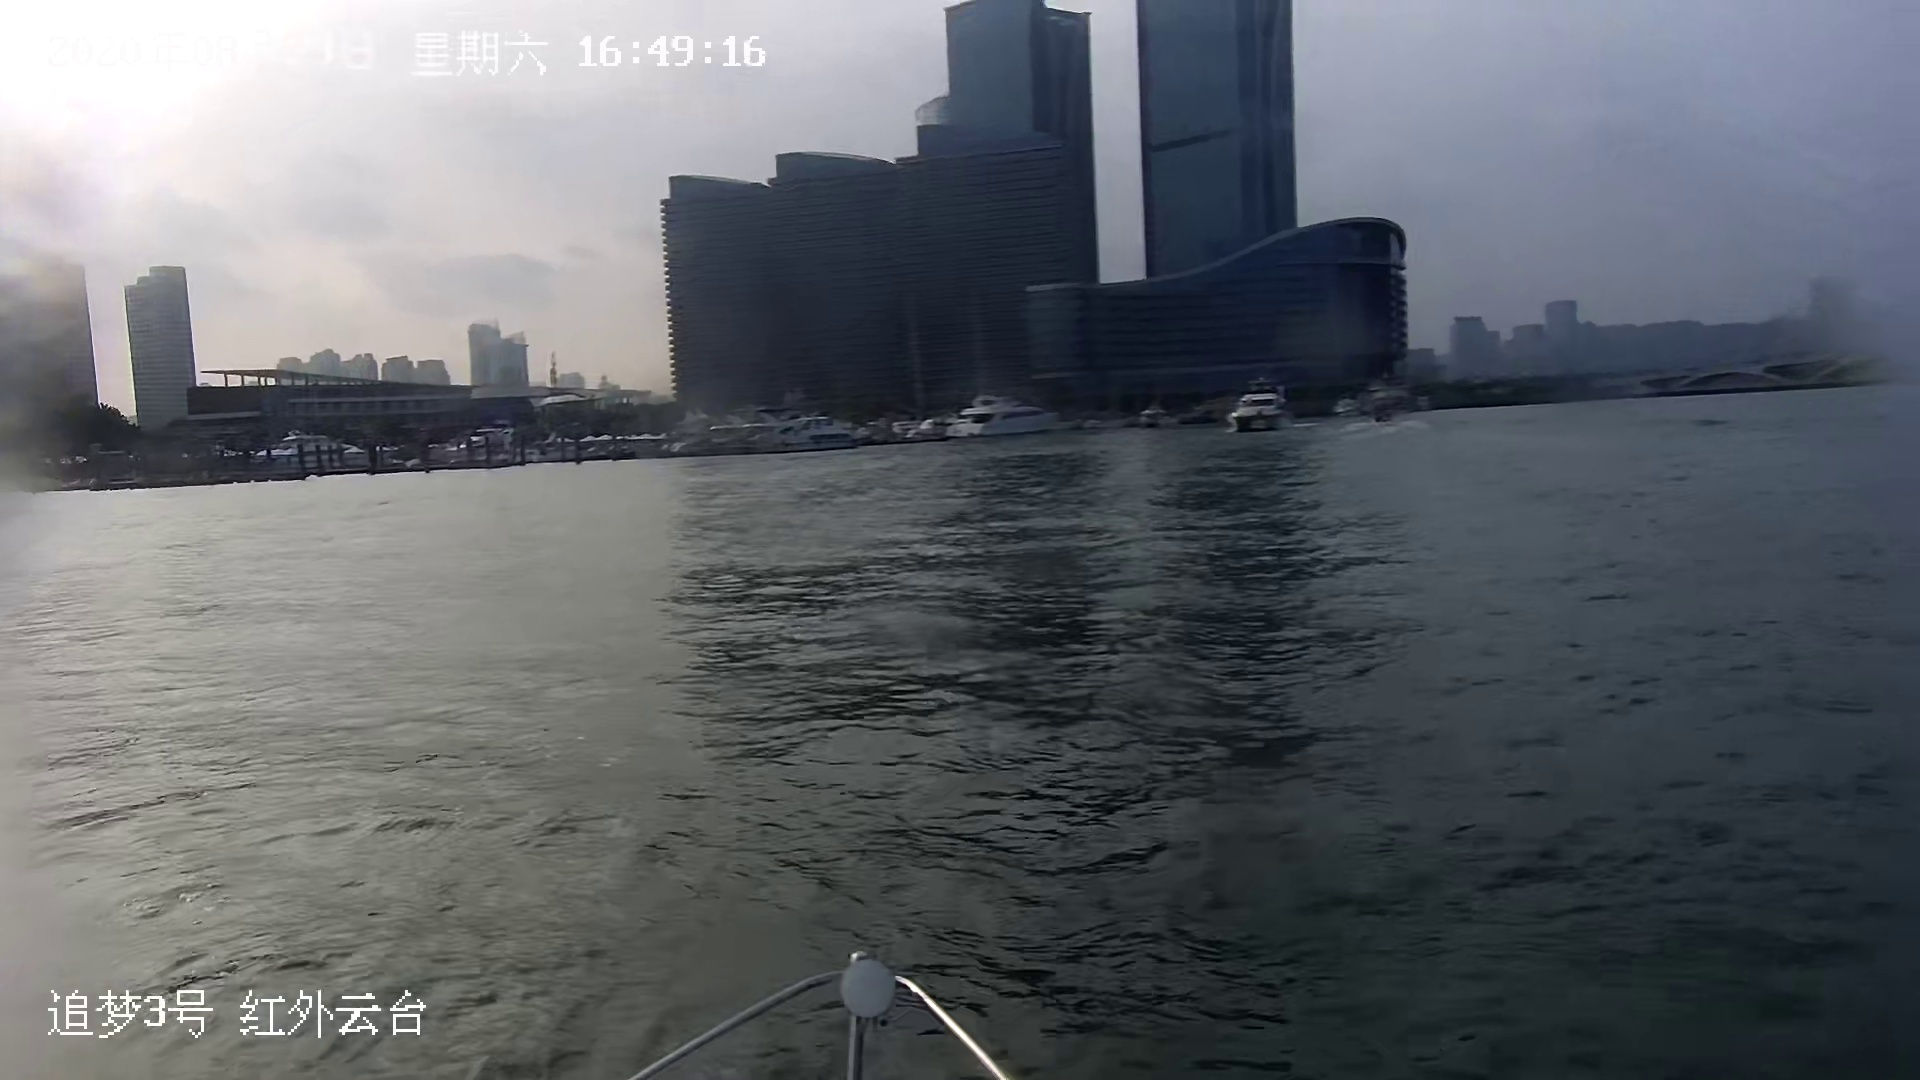barrier: (943, 393, 1065, 436), (764, 417, 868, 454), (1233, 376, 1292, 435)
coast: (8, 1, 1920, 495)
